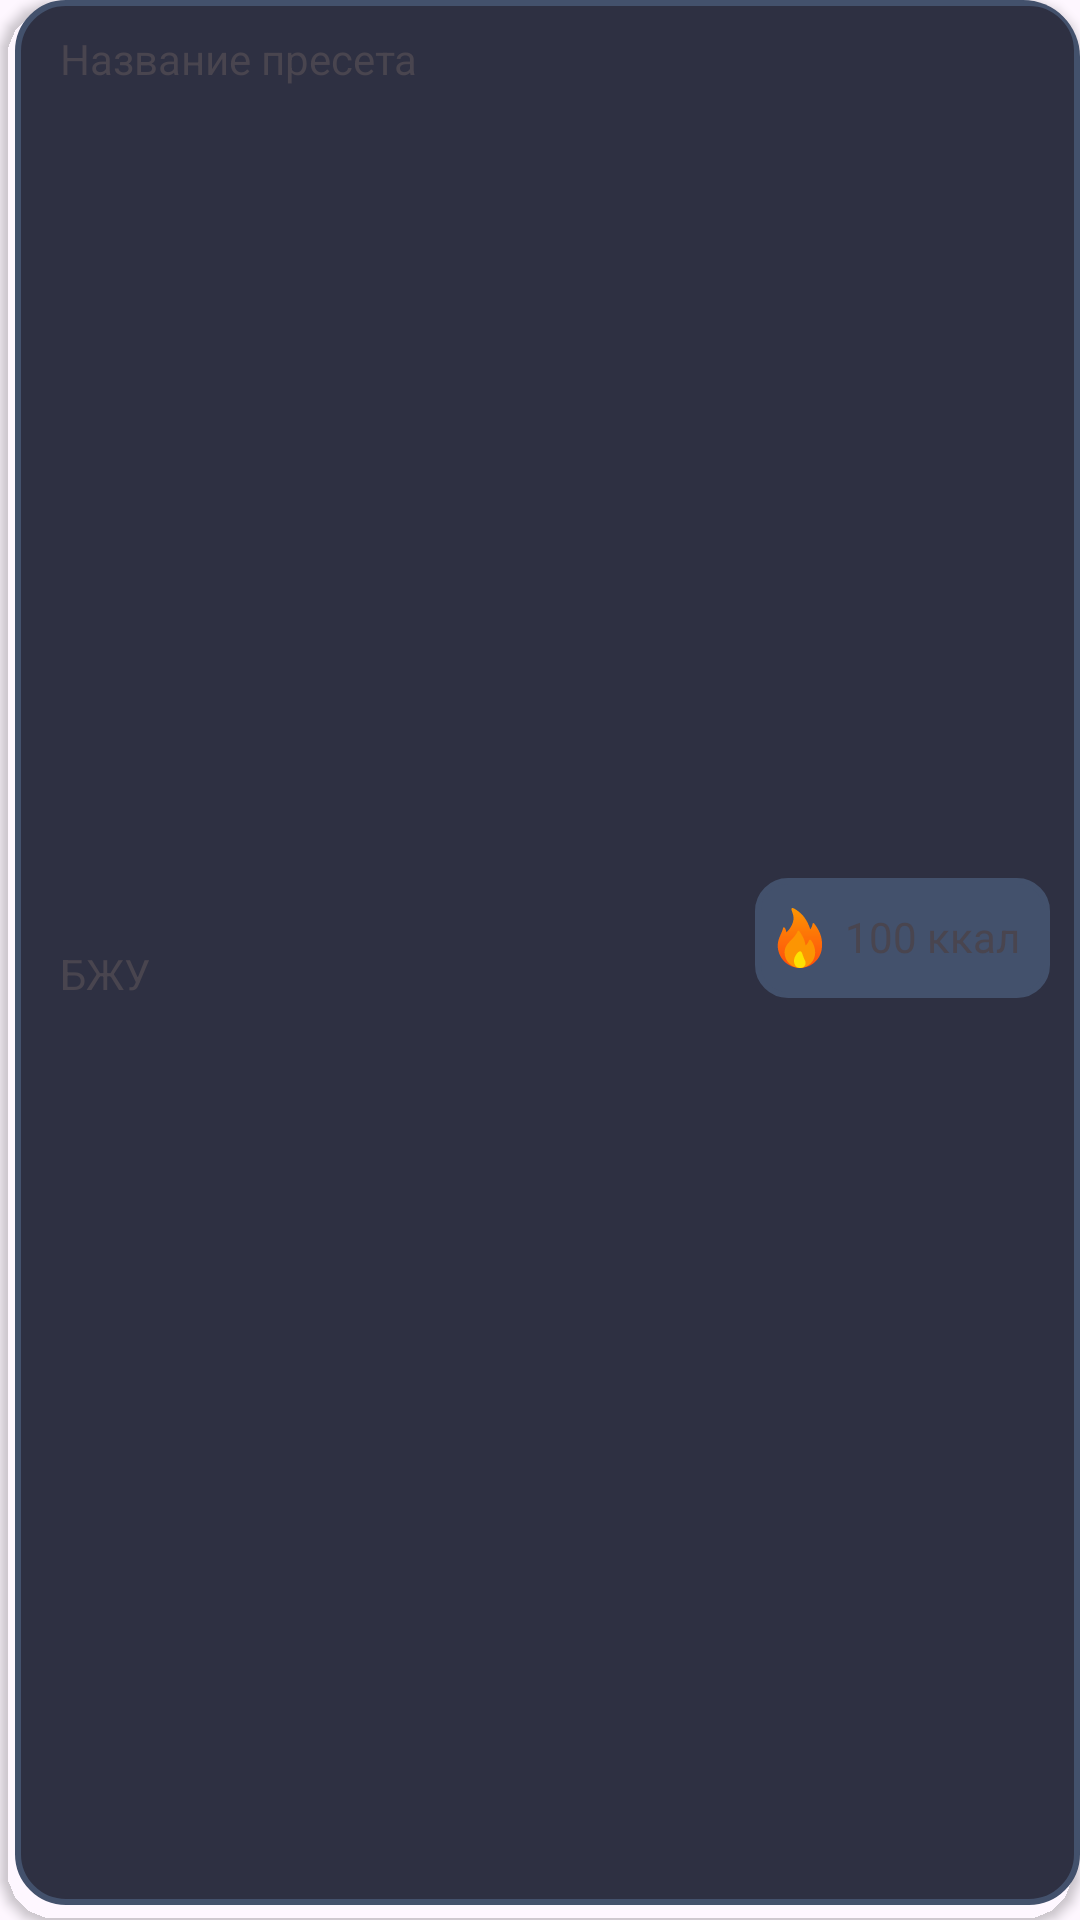

Named icons in this screenshot (1080 x 1920) and their centers, (x,y):
fire kkal: (799,938)
